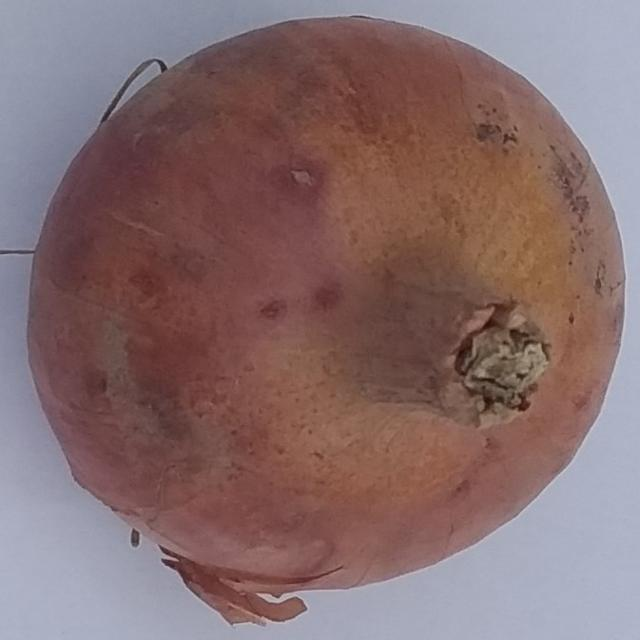onion: (22, 11, 628, 625)
